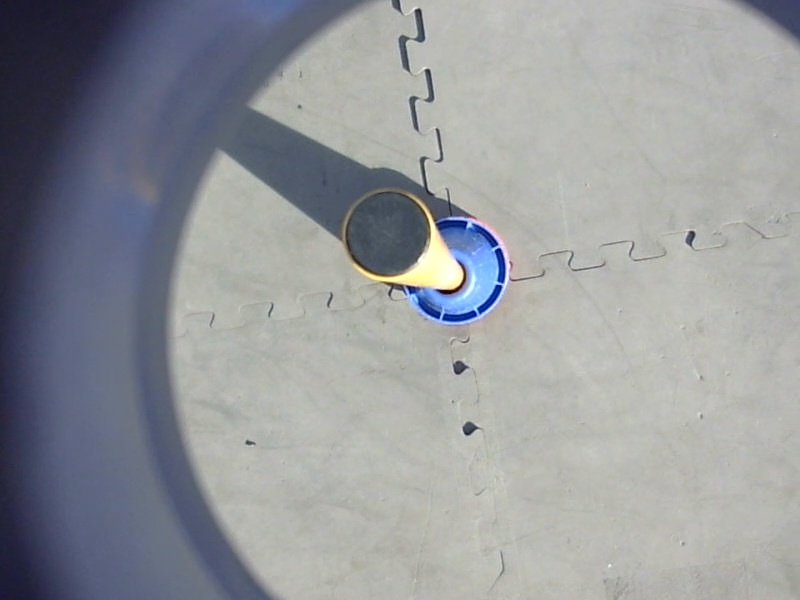tip: (336, 183, 438, 289)
